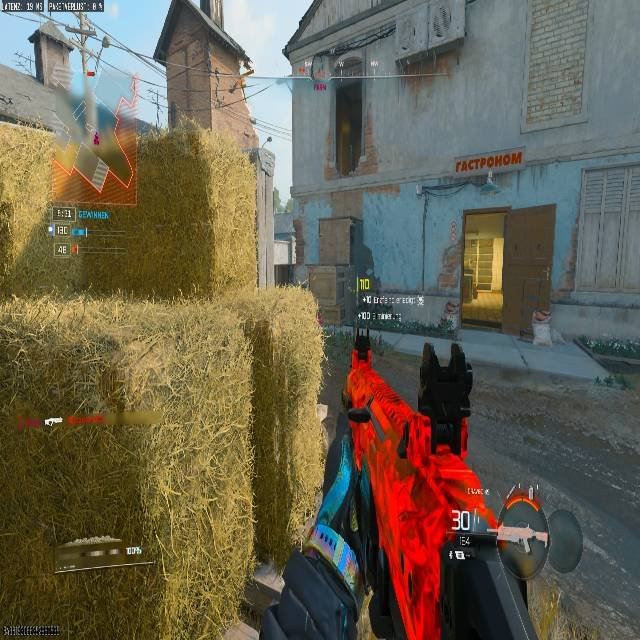head: (353, 337, 372, 367)
player: (353, 283, 390, 331)
